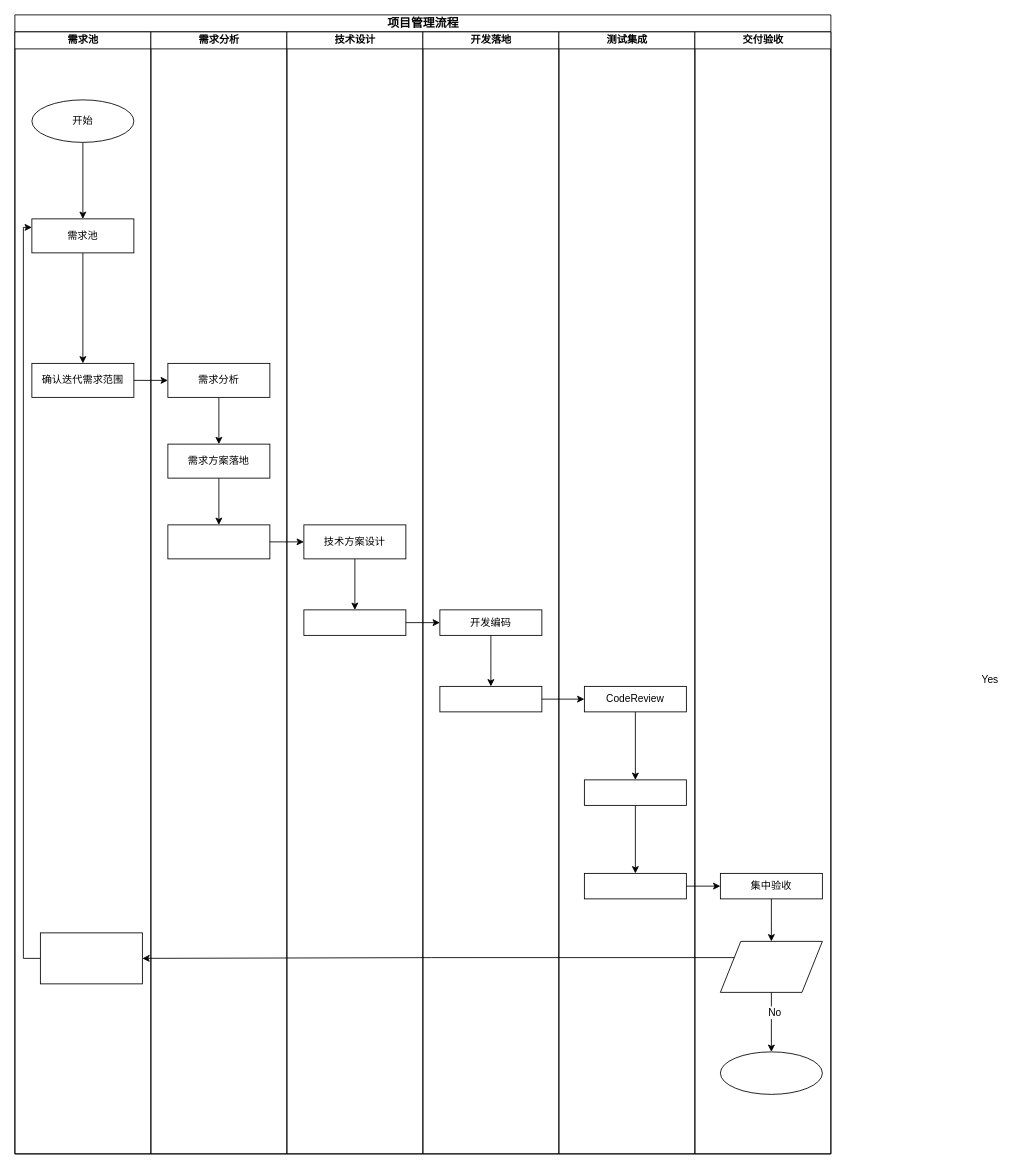
The diagram is 1012 pixels wide and 1169 high, and some of its shapes have lost their labels. Each missing label, with the centre of its shape:
"单元测试" belongs at point 490,699.
"性能测试" belongs at point 635,886.
"技术方案评审" belongs at point 354,622.
"放入下个迭代" belongs at point 91,958.
"未完成需求" belongs at point 771,966.
"结束" belongs at point 771,1072.
"集成测试" belongs at point 635,792.
"需求评审" belongs at point 218,541.
